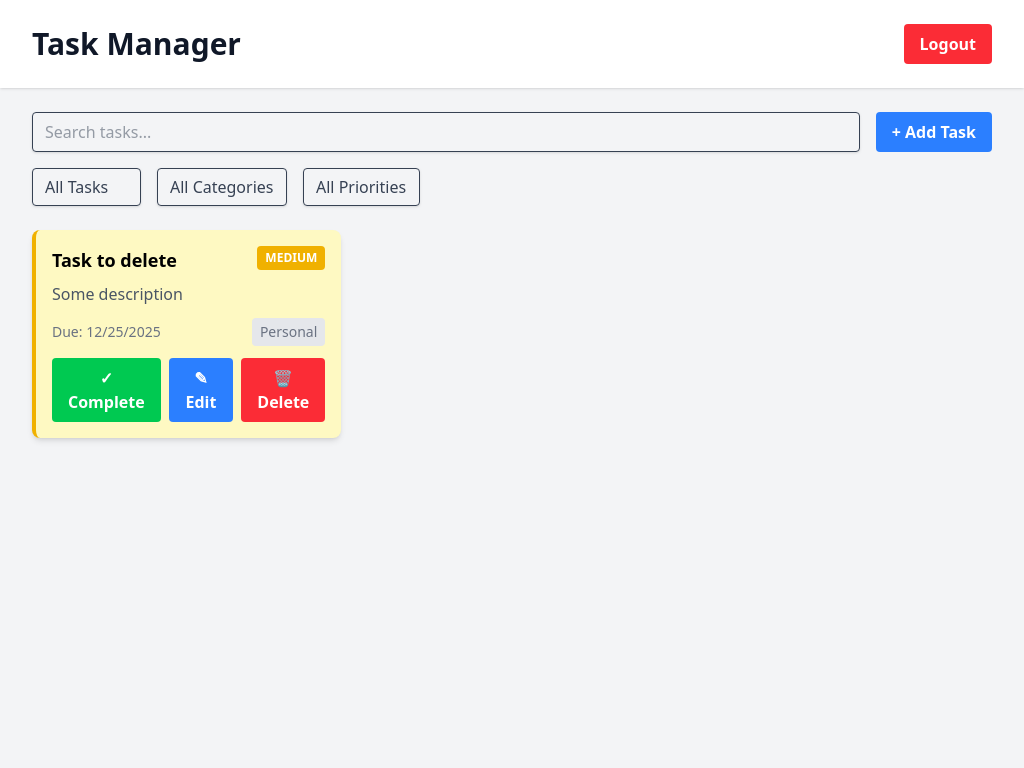
Scenario: TaskManager › shows success notification when deleting a task
Open delete modal and confirm
Click the button with aria-label "delete task".
click(283, 390)  # box [241,358,325,422]
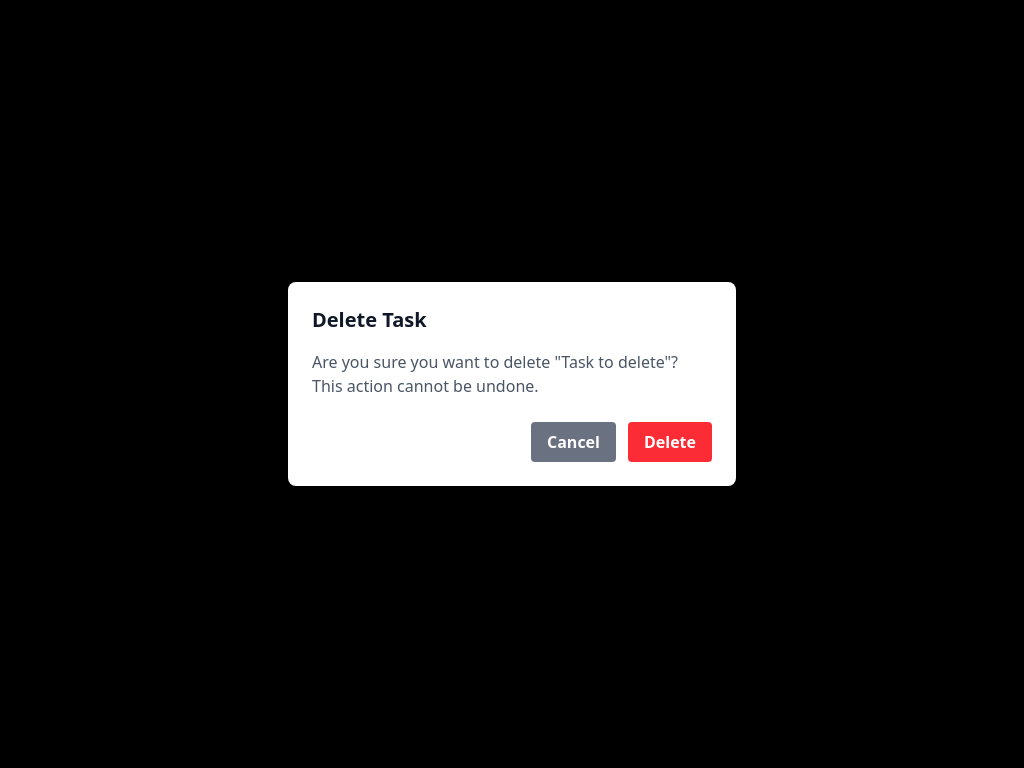
Click the button with aria-label "delete action".
click(670, 442)  # box [628,422,712,462]
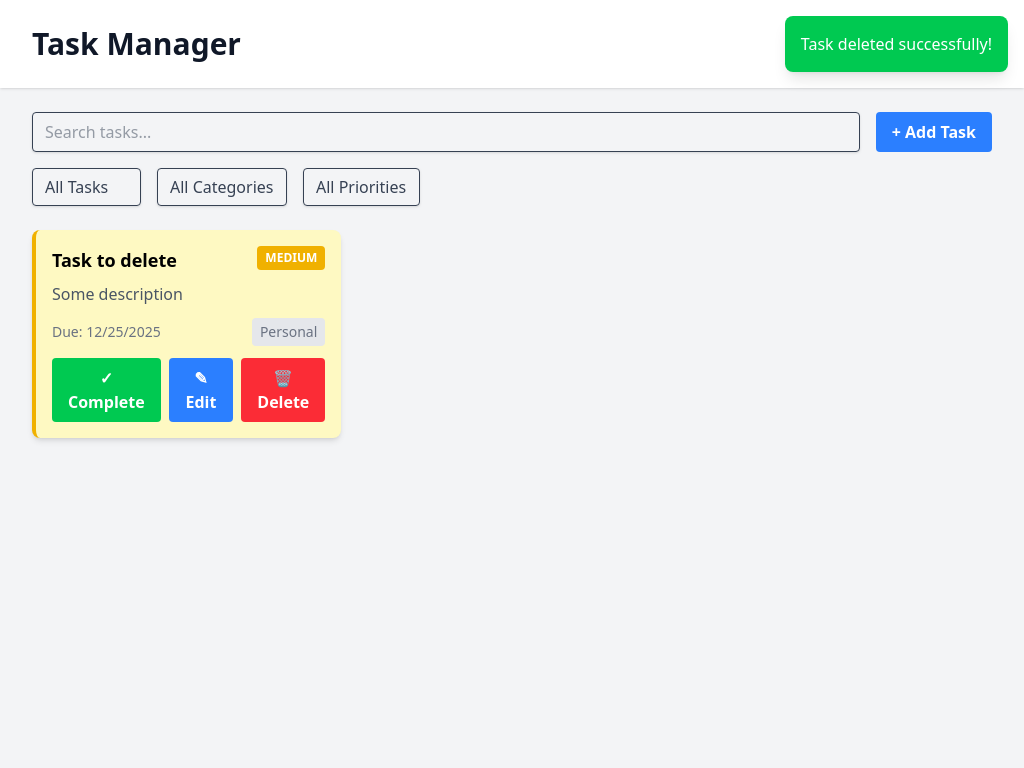
Expected: the text "Task deleted successfully!" is shown, [785,16,1008,72]
